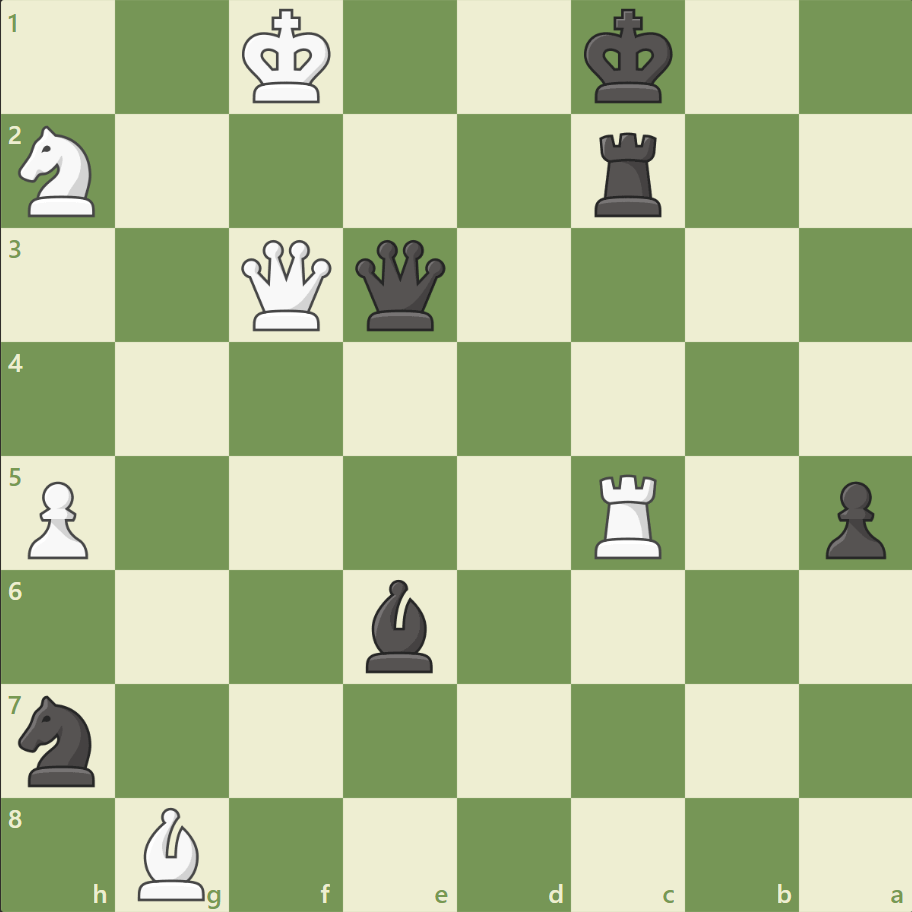B: (138, 806, 216, 910)
K: (242, 13, 340, 114)
N: (19, 127, 108, 228)
P: (28, 476, 100, 560)
Q: (241, 240, 342, 341)
R: (592, 467, 670, 567)
b: (365, 579, 443, 683)
k: (582, 13, 680, 114)
n: (19, 694, 108, 795)
p: (823, 476, 895, 560)
q: (354, 240, 455, 341)
r: (592, 127, 670, 227)
